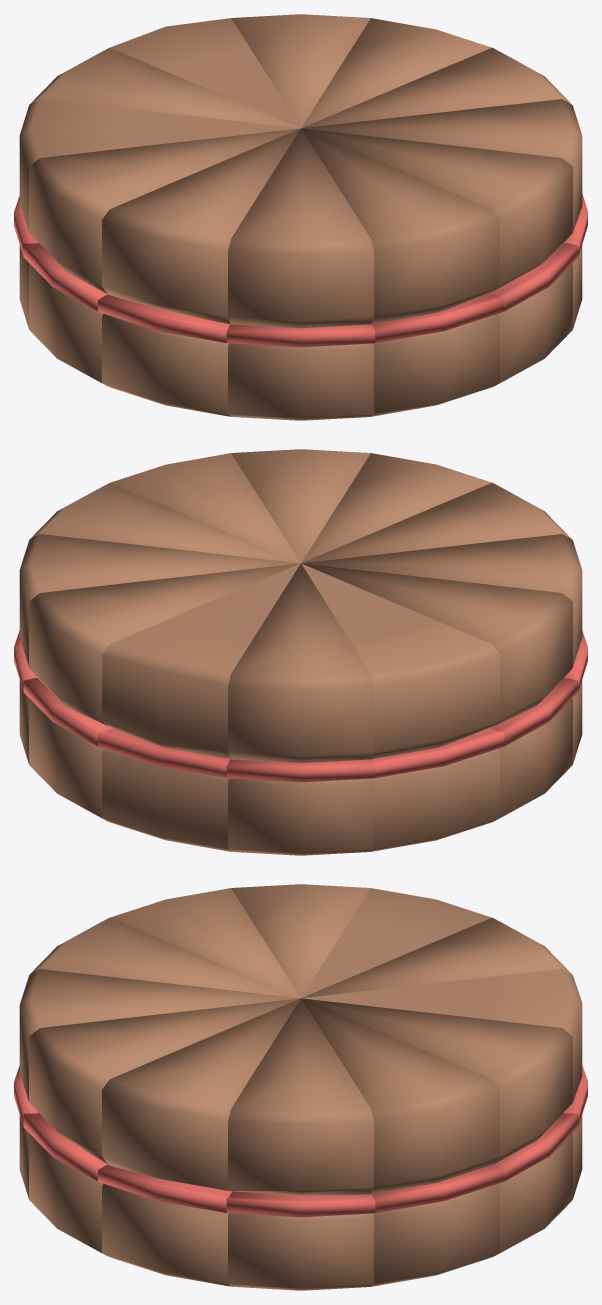
Rendered from LayerCake.fbx.
3 renders of one model, top to bottom at view 1: azimuth 30°, elevation 25°; view 2: azimuth 150°, elevation 25°; view 3: azimuth 270°, elevation 25°, orthographic.
Parts seen in each view (by area): view 1: LayerCakeSlice_9, LayerCakeSlice_10, LayerCakeSlice_8, LayerCakeSlice_7, LayerCakeSlice_11, LayerCakeSlice_12, LayerCakeSlice_6, LayerCakeSlice_5, LayerCakeSlice_1, LayerCakeSlice_2, LayerCakeSlice_4, LayerCakeSlice_3; view 2: LayerCakeSlice_1, LayerCakeSlice_12, LayerCakeSlice_2, LayerCakeSlice_3, LayerCakeSlice_11, LayerCakeSlice_4, LayerCakeSlice_10, LayerCakeSlice_9, LayerCakeSlice_5, LayerCakeSlice_8, LayerCakeSlice_6, LayerCakeSlice_7; view 3: LayerCakeSlice_5, LayerCakeSlice_4, LayerCakeSlice_6, LayerCakeSlice_3, LayerCakeSlice_7, LayerCakeSlice_2, LayerCakeSlice_8, LayerCakeSlice_1, LayerCakeSlice_9, LayerCakeSlice_10, LayerCakeSlice_12, LayerCakeSlice_11.
Boxes of the visible parts, left/top/right/bottom form: LayerCakeSlice_9: left=226, top=129, right=375, bottom=420; LayerCakeSlice_10: left=98, top=128, right=300, bottom=416; LayerCakeSlice_8: left=301, top=128, right=503, bottom=416; LayerCakeSlice_7: left=301, top=128, right=578, bottom=382; LayerCakeSlice_11: left=23, top=128, right=300, bottom=382; LayerCakeSlice_12: left=14, top=99, right=299, bottom=328; LayerCakeSlice_6: left=302, top=99, right=587, bottom=328; LayerCakeSlice_5: left=301, top=47, right=571, bottom=128; LayerCakeSlice_1: left=30, top=47, right=300, bottom=128; LayerCakeSlice_2: left=110, top=18, right=300, bottom=127; LayerCakeSlice_4: left=301, top=18, right=491, bottom=127; LayerCakeSlice_3: left=231, top=14, right=370, bottom=127; LayerCakeSlice_1: left=226, top=564, right=375, bottom=855; LayerCakeSlice_12: left=301, top=563, right=503, bottom=851; LayerCakeSlice_2: left=98, top=563, right=300, bottom=851; LayerCakeSlice_3: left=23, top=563, right=300, bottom=817; LayerCakeSlice_11: left=301, top=563, right=578, bottom=817; LayerCakeSlice_4: left=14, top=534, right=299, bottom=763; LayerCakeSlice_10: left=302, top=534, right=587, bottom=763; LayerCakeSlice_9: left=301, top=482, right=571, bottom=563; LayerCakeSlice_5: left=30, top=483, right=300, bottom=563; LayerCakeSlice_8: left=301, top=453, right=491, bottom=562; LayerCakeSlice_6: left=110, top=453, right=300, bottom=562; LayerCakeSlice_7: left=231, top=449, right=370, bottom=562; LayerCakeSlice_5: left=226, top=999, right=375, bottom=1290; LayerCakeSlice_4: left=301, top=998, right=503, bottom=1286; LayerCakeSlice_6: left=98, top=998, right=300, bottom=1286; LayerCakeSlice_3: left=301, top=998, right=578, bottom=1252; LayerCakeSlice_7: left=23, top=998, right=300, bottom=1252; LayerCakeSlice_2: left=302, top=969, right=587, bottom=1198; LayerCakeSlice_8: left=14, top=969, right=299, bottom=1198; LayerCakeSlice_1: left=301, top=917, right=571, bottom=998; LayerCakeSlice_9: left=30, top=917, right=300, bottom=998; LayerCakeSlice_10: left=110, top=888, right=300, bottom=997; LayerCakeSlice_12: left=301, top=888, right=491, bottom=997; LayerCakeSlice_11: left=231, top=884, right=370, bottom=997.
Size of the model in its own units: 0.5294 by 0.5294 by 0.1842.
